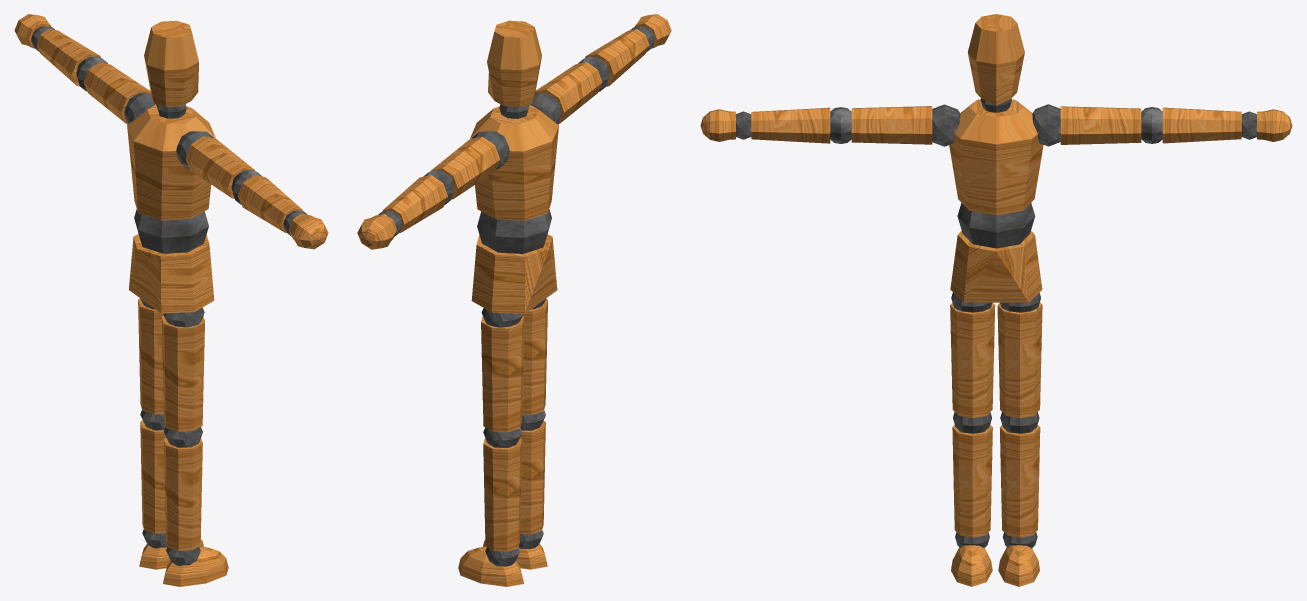
The picture shows the model from 3 angles, left to right: view 1: azimuth 30°, elevation 25°; view 2: azimuth 150°, elevation 25°; view 3: azimuth 270°, elevation 25°; orthographic projection.
Visible parts, largest first — view 1: Chest, Waist, ThighR, Head, CalfR, ThighL, CalfL, Core, UpperR, UpperL, ForearmR, ForearmL (+9 smaller); view 2: Chest, Waist, ThighL, Head, CalfL, ThighR, CalfR, Core, UpperL, UpperR, ForearmL, ForearmR (+9 smaller); view 3: Chest, Waist, ThighL, ThighR, Head, CalfR, CalfL, UpperR, UpperL, ForearmR, ForearmL, Core (+8 smaller).
Part boxes in pixels (left/top/right/bottom): Chest: left=127, top=104, right=215, bottom=220; Waist: left=128, top=234, right=214, bottom=313; ThighR: left=161, top=316, right=204, bottom=431; Head: left=144, top=20, right=198, bottom=107; CalfR: left=164, top=438, right=202, bottom=550; ThighL: left=138, top=298, right=163, bottom=414; CalfL: left=140, top=420, right=165, bottom=533; Core: left=134, top=209, right=208, bottom=253; UpperR: left=185, top=136, right=254, bottom=198; UpperL: left=83, top=62, right=150, bottom=124; ForearmR: left=238, top=175, right=302, bottom=232; ForearmL: left=36, top=29, right=100, bottom=86; Chest: left=470, top=104, right=558, bottom=220; Waist: left=471, top=234, right=557, bottom=313; ThighL: left=481, top=316, right=524, bottom=432; Head: left=487, top=20, right=541, bottom=107; CalfL: left=483, top=438, right=522, bottom=551; ThighR: left=522, top=298, right=547, bottom=414; CalfR: left=520, top=421, right=545, bottom=534; Core: left=477, top=209, right=551, bottom=253; UpperL: left=431, top=136, right=500, bottom=199; UpperR: left=535, top=62, right=602, bottom=124; ForearmL: left=382, top=175, right=447, bottom=233; ForearmR: left=585, top=29, right=649, bottom=86; Chest: left=949, top=99, right=1043, bottom=215; Waist: left=950, top=231, right=1042, bottom=302; ThighL: left=997, top=302, right=1042, bottom=418; ThighR: left=950, top=302, right=995, bottom=418; Head: left=967, top=14, right=1024, bottom=105; CalfR: left=952, top=425, right=992, bottom=537; CalfL: left=999, top=425, right=1040, bottom=537; UpperR: left=851, top=106, right=932, bottom=144; UpperL: left=1060, top=106, right=1141, bottom=144; ForearmR: left=751, top=107, right=830, bottom=143; ForearmL: left=1162, top=107, right=1241, bottom=143; Core: left=957, top=203, right=1035, bottom=248.
Size of the model in its own units: 0.3036 by 1.9 by 1.88.
Materials: 2 (2 with a texture image).
